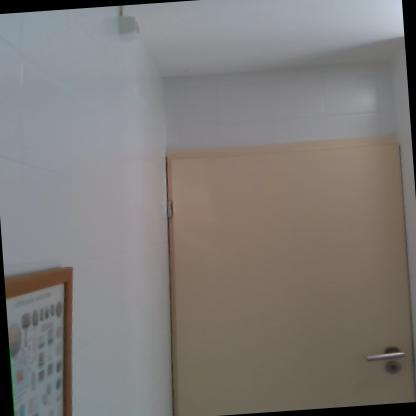closed: (141, 111, 415, 415)
